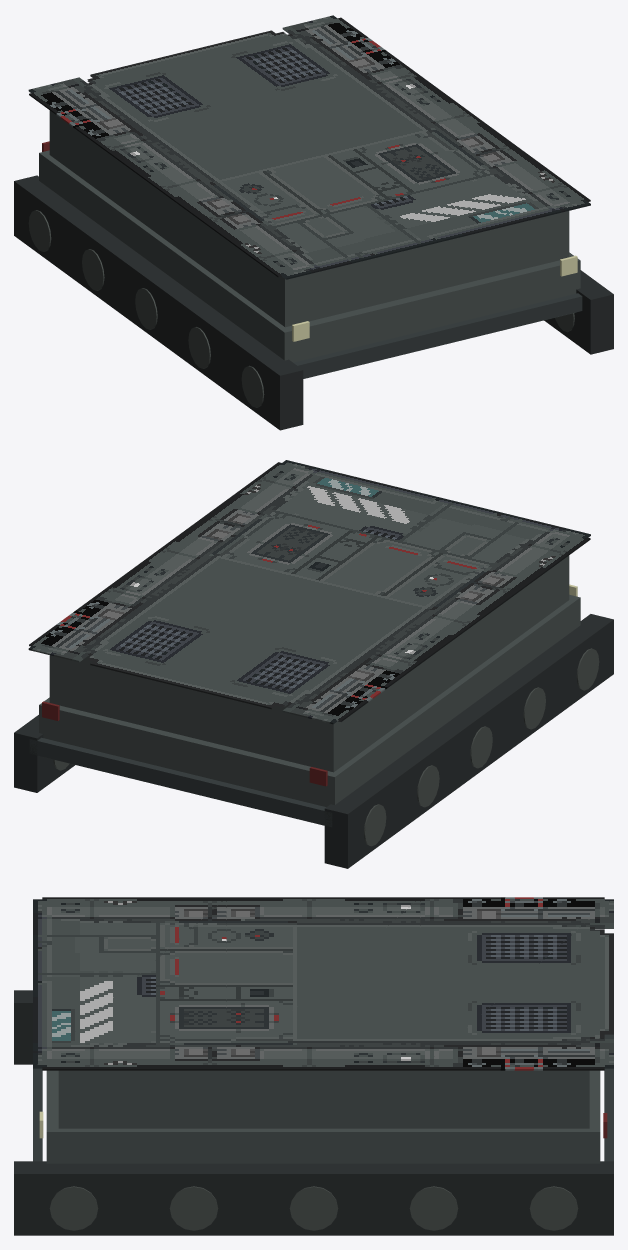
File: CMU3DReduxVehicleAev.glb
The picture shows the model from 3 angles, top to bottom: view 1: azimuth 30°, elevation 25°; view 2: azimuth 150°, elevation 25°; view 3: azimuth 270°, elevation 25°; orthographic projection. The views are drawn at different scales.
Parts seen in each view (by area): view 1: source hull roof panel (×3), upper hull, continuous track (×2), closed lower chassis, front bumper, track road wheel (×5); view 2: source hull roof panel (×3), upper hull, continuous track (×2), closed lower chassis, rear bumper, track road wheel (×5); view 3: source hull roof panel (×3), continuous track (×2), upper hull, closed lower chassis, track road wheel (×5), rear bumper, front bumper.
Part boxes in pixels (<box>): source hull roof panel (×3): <box>28,15,590,279</box>; upper hull: <box>49,110,569,327</box>; continuous track (×2): <box>14,175,613,430</box>; closed lower chassis: <box>39,150,580,378</box>; front bumper: <box>293,293,582,378</box>; track road wheel (×5): <box>28,210,264,407</box>; source hull roof panel (×3): <box>28,460,590,724</box>; upper hull: <box>49,555,569,772</box>; continuous track (×2): <box>14,614,613,868</box>; closed lower chassis: <box>39,594,580,825</box>; rear bumper: <box>29,737,332,827</box>; track road wheel (×5): <box>363,648,599,846</box>; source hull roof panel (×3): <box>33,897,613,1070</box>; continuous track (×2): <box>14,990,613,1235</box>; upper hull: <box>58,1070,589,1128</box>; closed lower chassis: <box>46,1038,600,1163</box>; track road wheel (×5): <box>49,1186,578,1230</box>; rear bumper: <box>604,1034,613,1161</box>; front bumper: <box>33,1068,42,1161</box>.
Size of the model in its own units: 2.89 by 1.17 by 3.97.
Materials: 9 (3 with a texture image).
